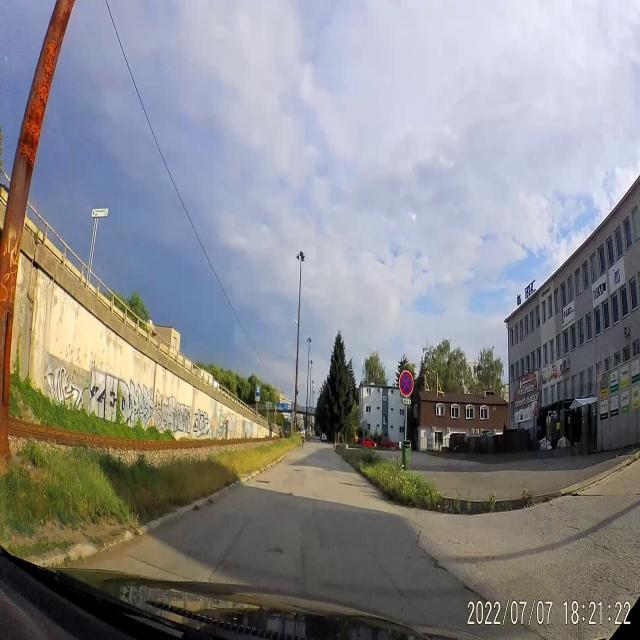Pothole: (335, 480, 375, 490), (264, 542, 284, 560), (278, 488, 296, 503), (287, 466, 309, 474), (254, 478, 271, 488), (324, 465, 336, 474)
